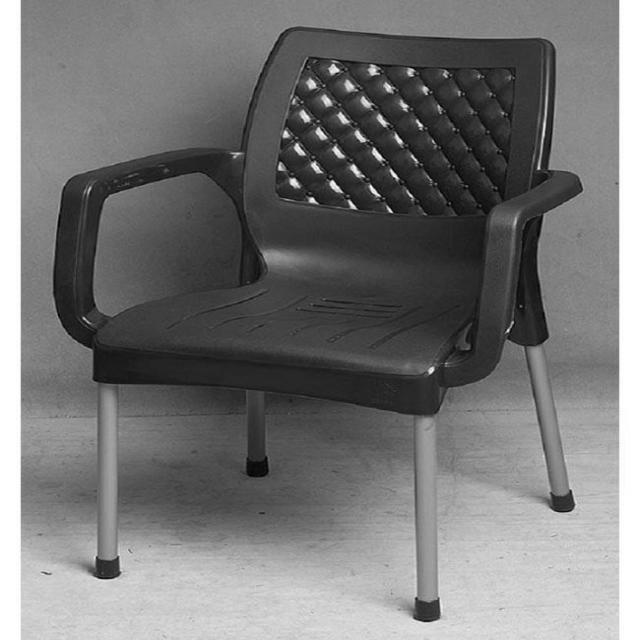chair: (49, 22, 586, 625)
